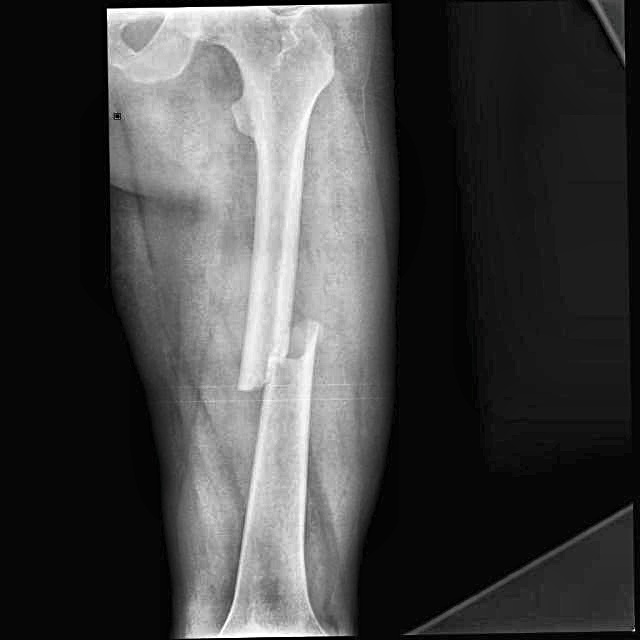Transverse: (219, 301, 339, 436)
